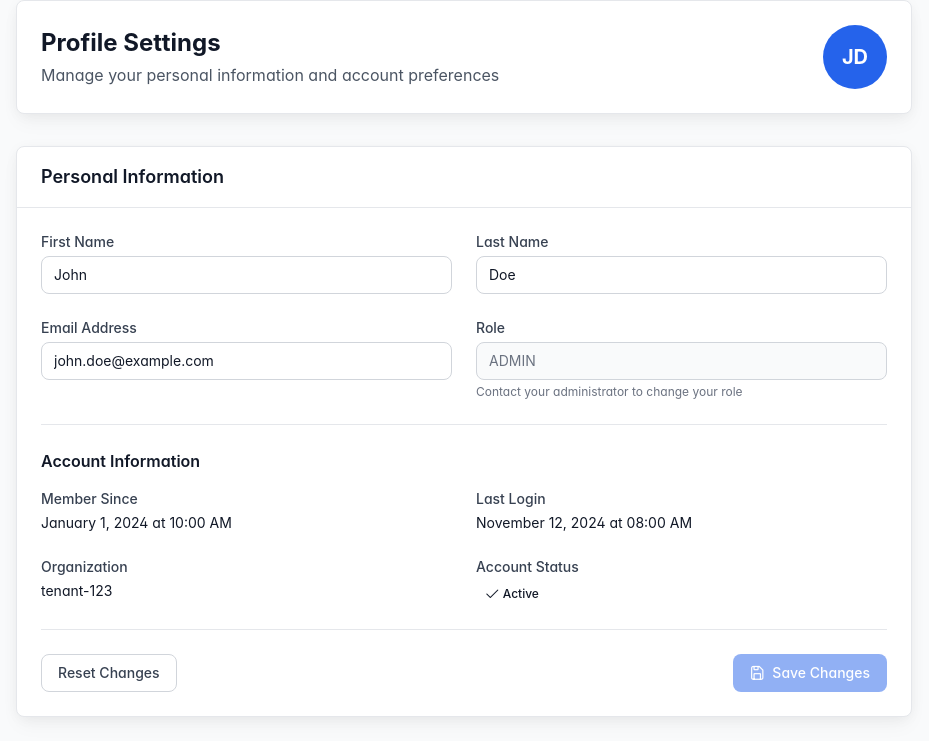
Test case: ProfileView › Reset Functionality › should clear errors on reset
Replace the text in the field with id "email" with "invalid" at point(246, 361), box [41, 342, 452, 380]
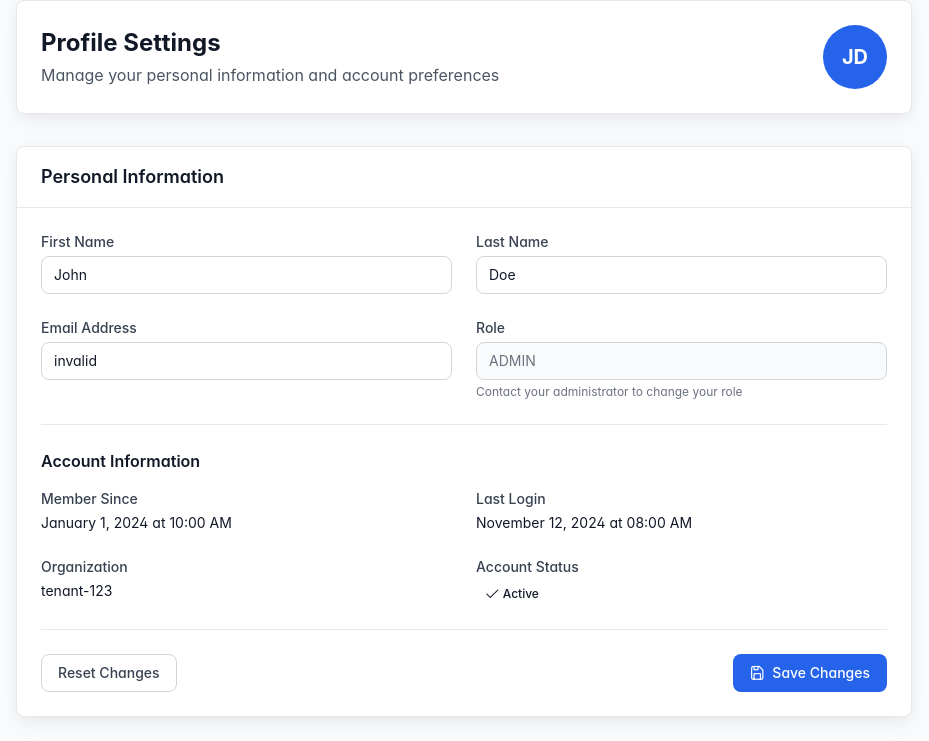
Submit the form
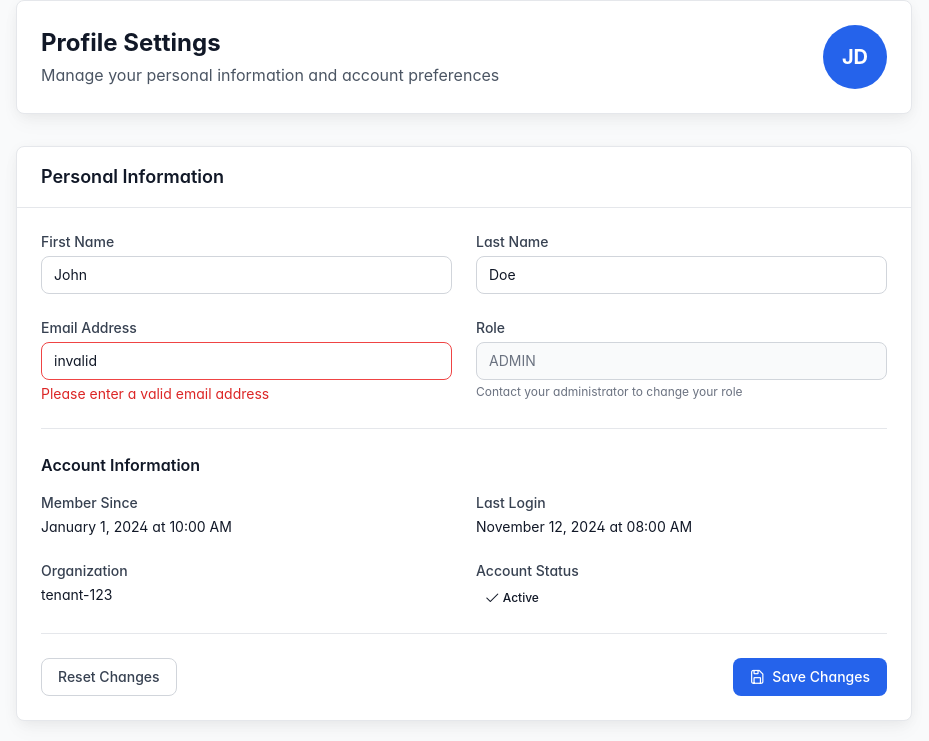
Click the button "Reset Changes".
click(109, 677)  # box [41, 658, 177, 696]
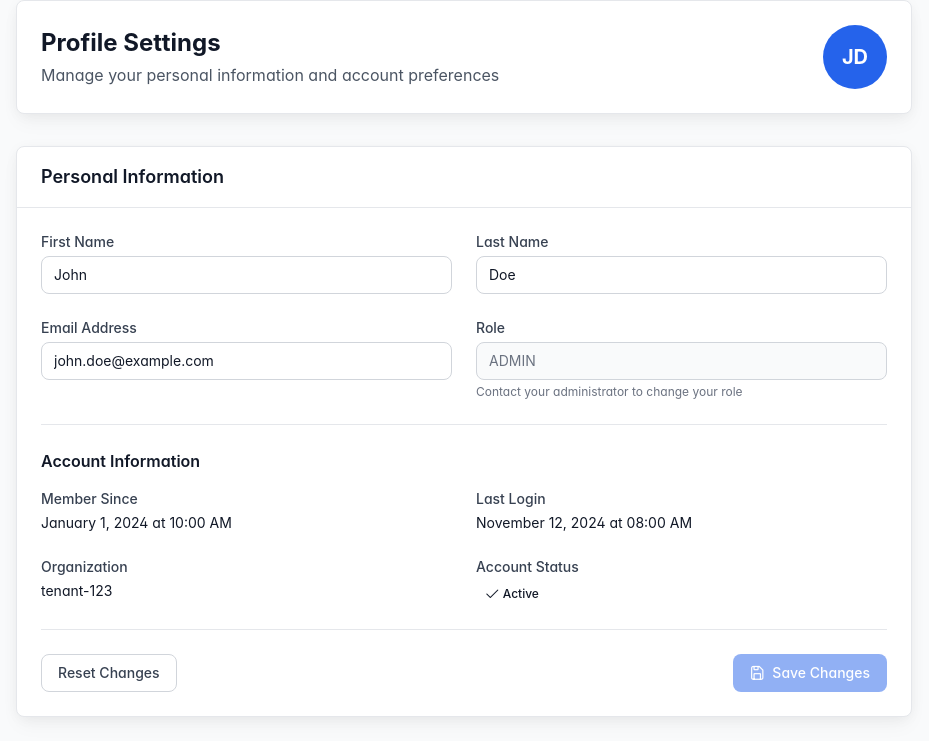
Check: the text "Please enter a valid email address" is gone
